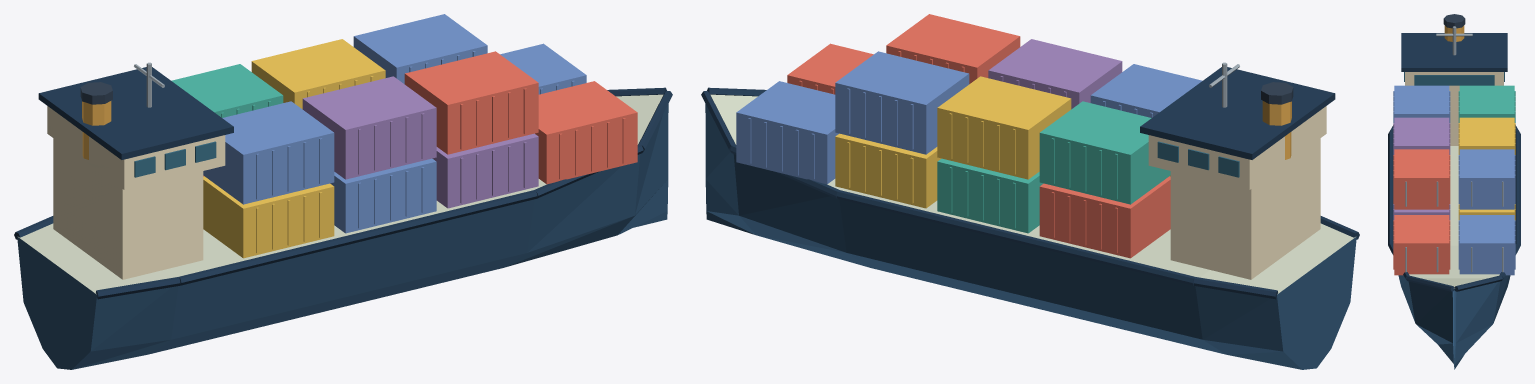
The model's file is boat-containership.glb.
The picture shows the model from 3 angles, left to right: view 1: azimuth 30°, elevation 25°; view 2: azimuth 150°, elevation 25°; view 3: azimuth 270°, elevation 25°; orthographic projection. The views are drawn at different scales.
Visible parts, largest first — view 1: hull, container_blue, bridge, container_coral, edge, container_plum, container_gold, deck, container_teal, window, funnel, funnel_top; view 2: hull, container_blue, bridge, edge, container_gold, container_teal, container_coral, deck, container_plum, window, funnel, funnel_top; view 3: container_blue, container_coral, edge, hull, container_gold, container_plum, container_teal, deck, bridge, window, mast, funnel_top (+1 smaller).
Boxes of the visible parts, x1,y1,x2,y2 form: hull: [17, 103, 668, 369]; container_blue: [203, 14, 586, 233]; bridge: [47, 106, 225, 279]; container_coral: [203, 51, 637, 184]; edge: [14, 67, 672, 299]; container_plum: [302, 76, 538, 208]; container_gold: [203, 39, 385, 258]; deck: [18, 94, 663, 294]; container_teal: [171, 64, 283, 117]; window: [134, 141, 216, 177]; funnel: [82, 101, 111, 159]; funnel_top: [80, 82, 112, 104]; hull: [705, 103, 1356, 369]; container_blue: [736, 51, 1202, 184]; bridge: [1148, 106, 1326, 279]; edge: [701, 67, 1359, 299]; container_gold: [835, 76, 1170, 208]; container_teal: [937, 101, 1170, 233]; container_coral: [787, 14, 1170, 258]; deck: [710, 94, 1355, 294]; container_plum: [988, 39, 1122, 109]; window: [1157, 141, 1239, 177]; funnel: [1262, 101, 1291, 159]; funnel_top: [1261, 82, 1293, 104]; container_blue: [1393, 85, 1515, 275]; container_coral: [1393, 149, 1450, 275]; edge: [1388, 33, 1520, 291]; hull: [1398, 275, 1510, 369]; container_gold: [1458, 117, 1515, 220]; container_plum: [1393, 117, 1450, 220]; container_teal: [1458, 85, 1515, 122]; deck: [1409, 146, 1499, 288]; bridge: [1405, 72, 1503, 145]; window: [1404, 72, 1504, 85]; mast: [1405, 26, 1503, 272]; funnel_top: [1443, 14, 1465, 28].
Size of the model in its own units: 9.3 by 4.09 by 2.72.
